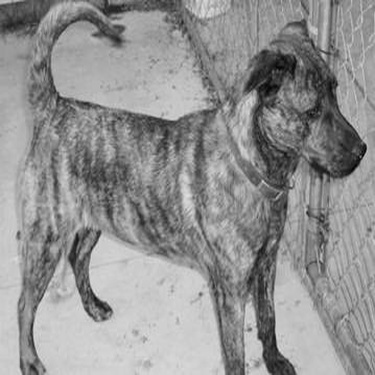dog: (16, 1, 371, 373)
